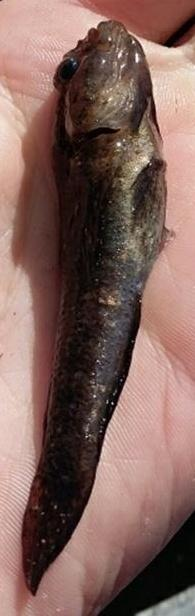Goby: (17, 8, 170, 595)
